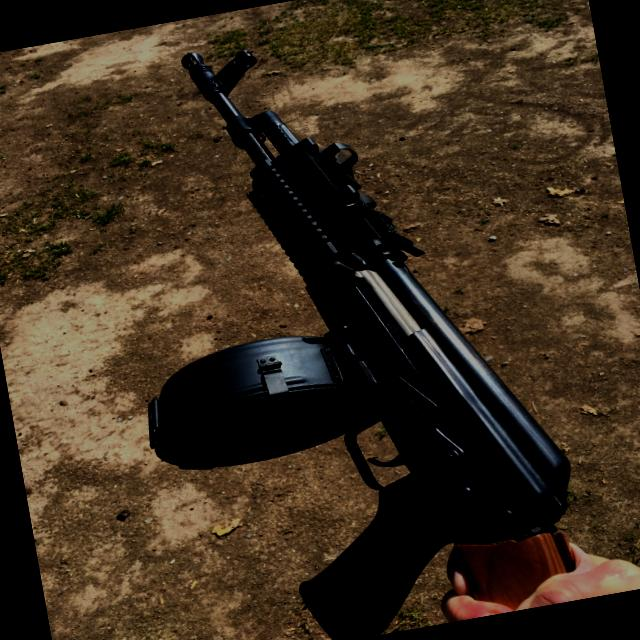ak: (66, 0, 603, 640)
